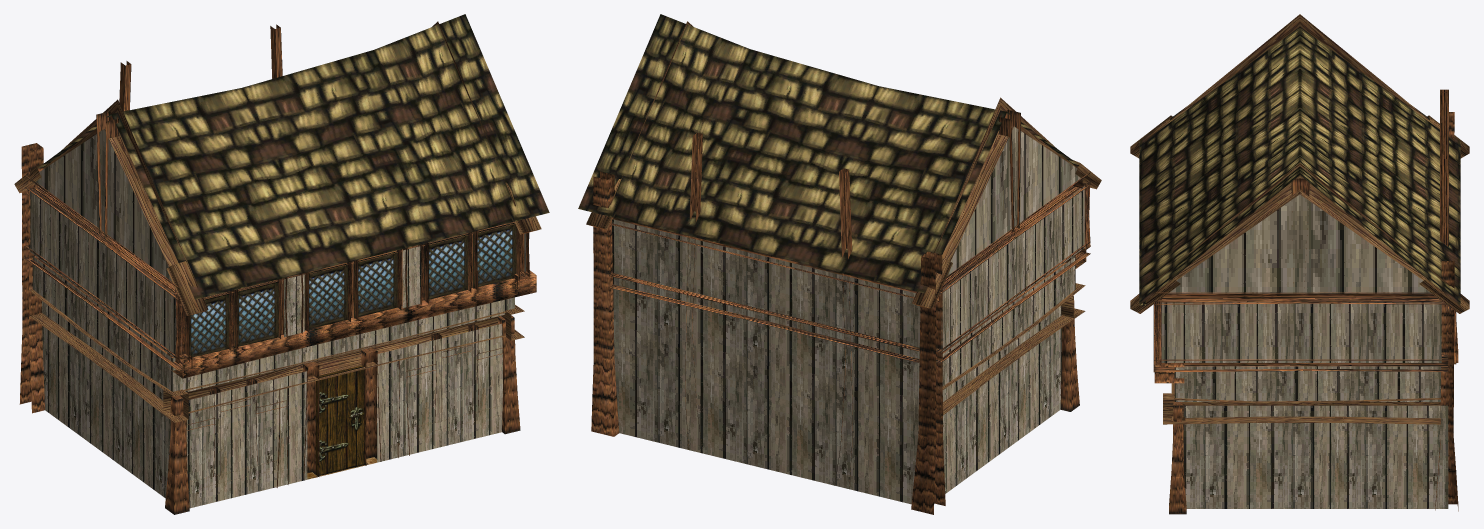
File: LAKETOWN_GENHOUSE1_PS_GH1_MAINSHELL857__GX.fbx
3 views of the same model, side by side, from view 1: azimuth 30°, elevation 25°; view 2: azimuth 150°, elevation 25°; view 3: azimuth 270°, elevation 25° (orthographic). The views are drawn at different scales.
Visible parts, largest first — view 1: LAKETOWN_GENHOUSE1_PS_GH1_MAINSHELL857__GX; view 2: LAKETOWN_GENHOUSE1_PS_GH1_MAINSHELL857__GX; view 3: LAKETOWN_GENHOUSE1_PS_GH1_MAINSHELL857__GX.
Part boxes in pixels (x1=…): LAKETOWN_GENHOUSE1_PS_GH1_MAINSHELL857__GX: x1=14, y1=14, x2=549, y2=514; LAKETOWN_GENHOUSE1_PS_GH1_MAINSHELL857__GX: x1=578, y1=14, x2=1101, y2=514; LAKETOWN_GENHOUSE1_PS_GH1_MAINSHELL857__GX: x1=1130, y1=14, x2=1469, y2=514.
Bounding box in the file's own units: 88624 × 84572 × 75067.
12 materials, 12 textured.
